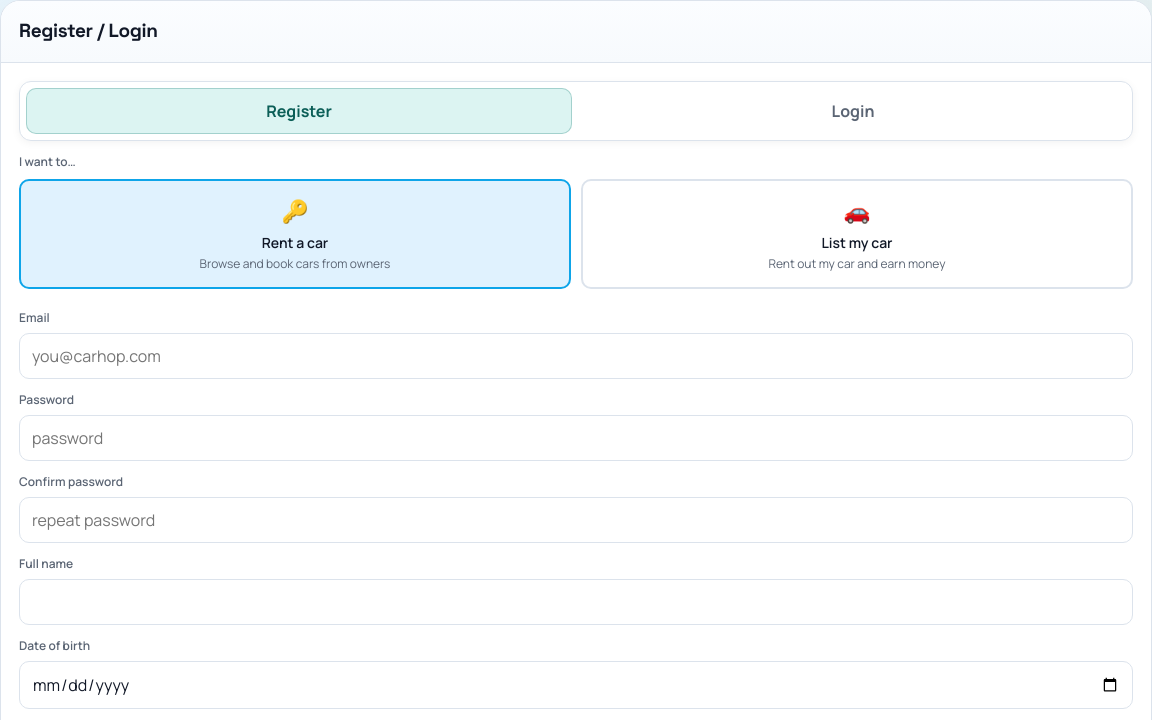
Test case: AuthPage › switches between register and login modes
Check: the field labelled "Full name" is shown, box [19,578,1133,624]
Click the button "Login": (853, 110) [580,88,1126,134]
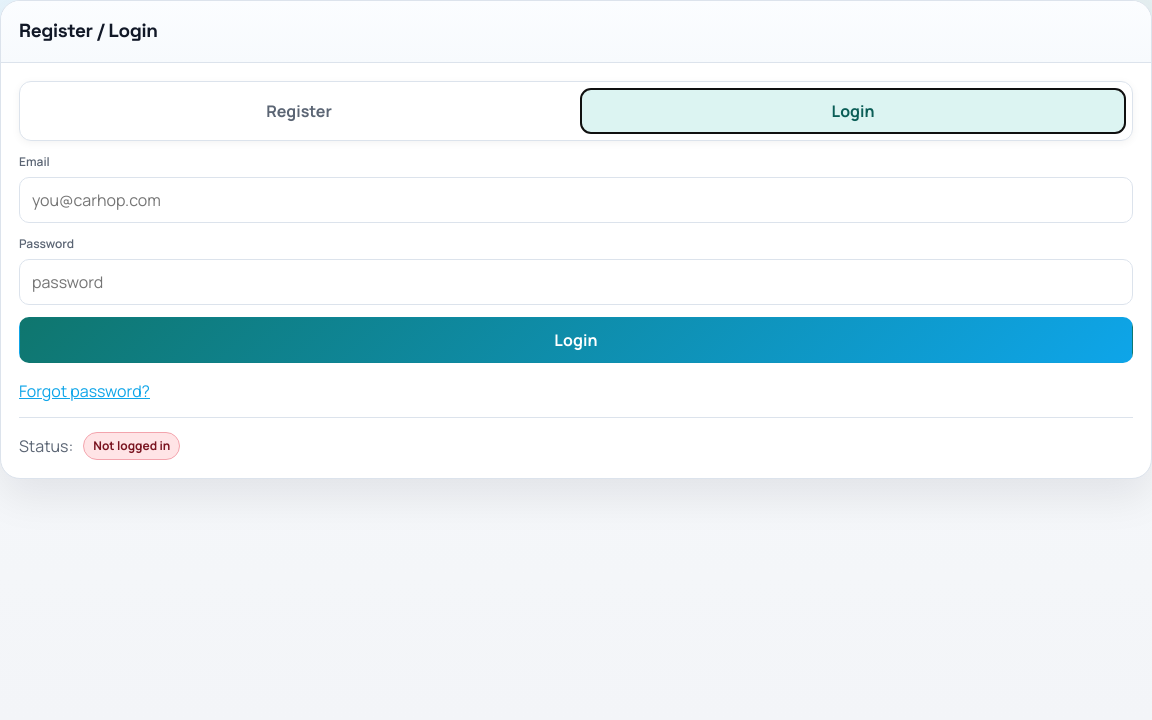
Check: the text labelled "Full name" is gone
